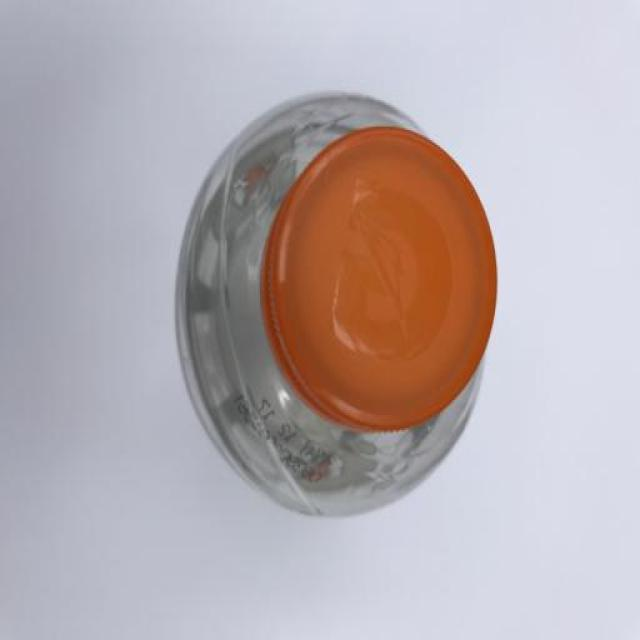plastic: (167, 85, 502, 527)
